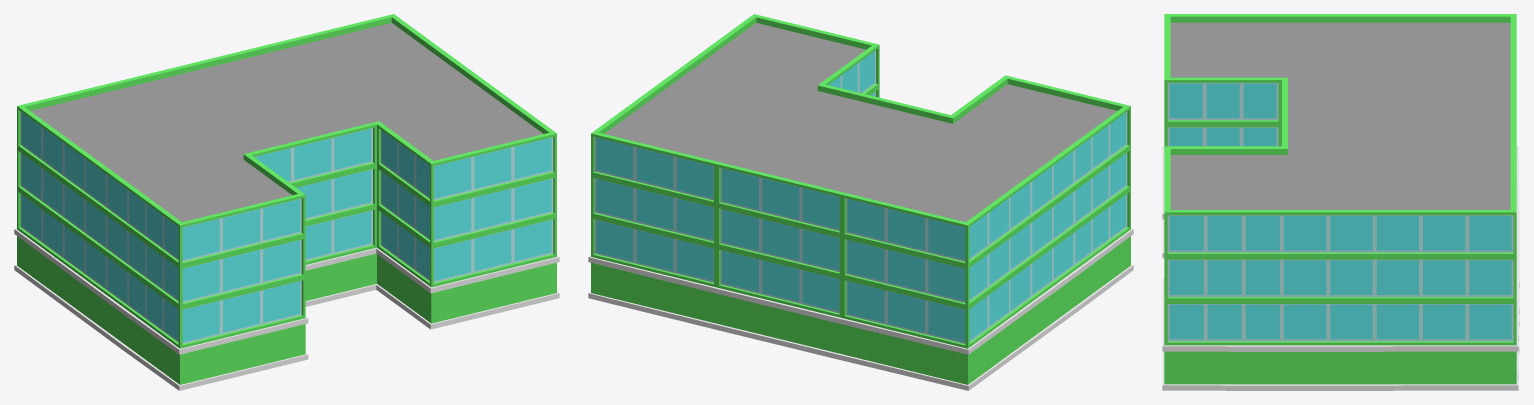
File: SM_House_12_03.FBX
3 renders of one model, left to right at view 1: azimuth 30°, elevation 25°; view 2: azimuth 150°, elevation 25°; view 3: azimuth 270°, elevation 25°, orthographic. The views are drawn at different scales.
Parts seen in each view (by area): view 1: SM_House_12_03; view 2: SM_House_12_03; view 3: SM_House_12_03.
Boxes of the visible parts, x1,y1,x2,y2 form: SM_House_12_03: (14, 14, 559, 390); SM_House_12_03: (588, 14, 1133, 390); SM_House_12_03: (1162, 14, 1519, 390).
Size of the model in its own units: 12.15 by 5 by 9.12.
1 material, 1 textured.
